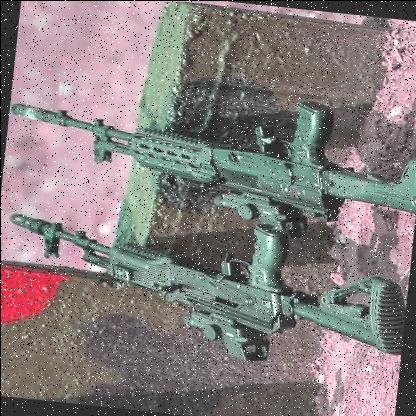rifle: (6, 62, 416, 225), (0, 204, 406, 365)
